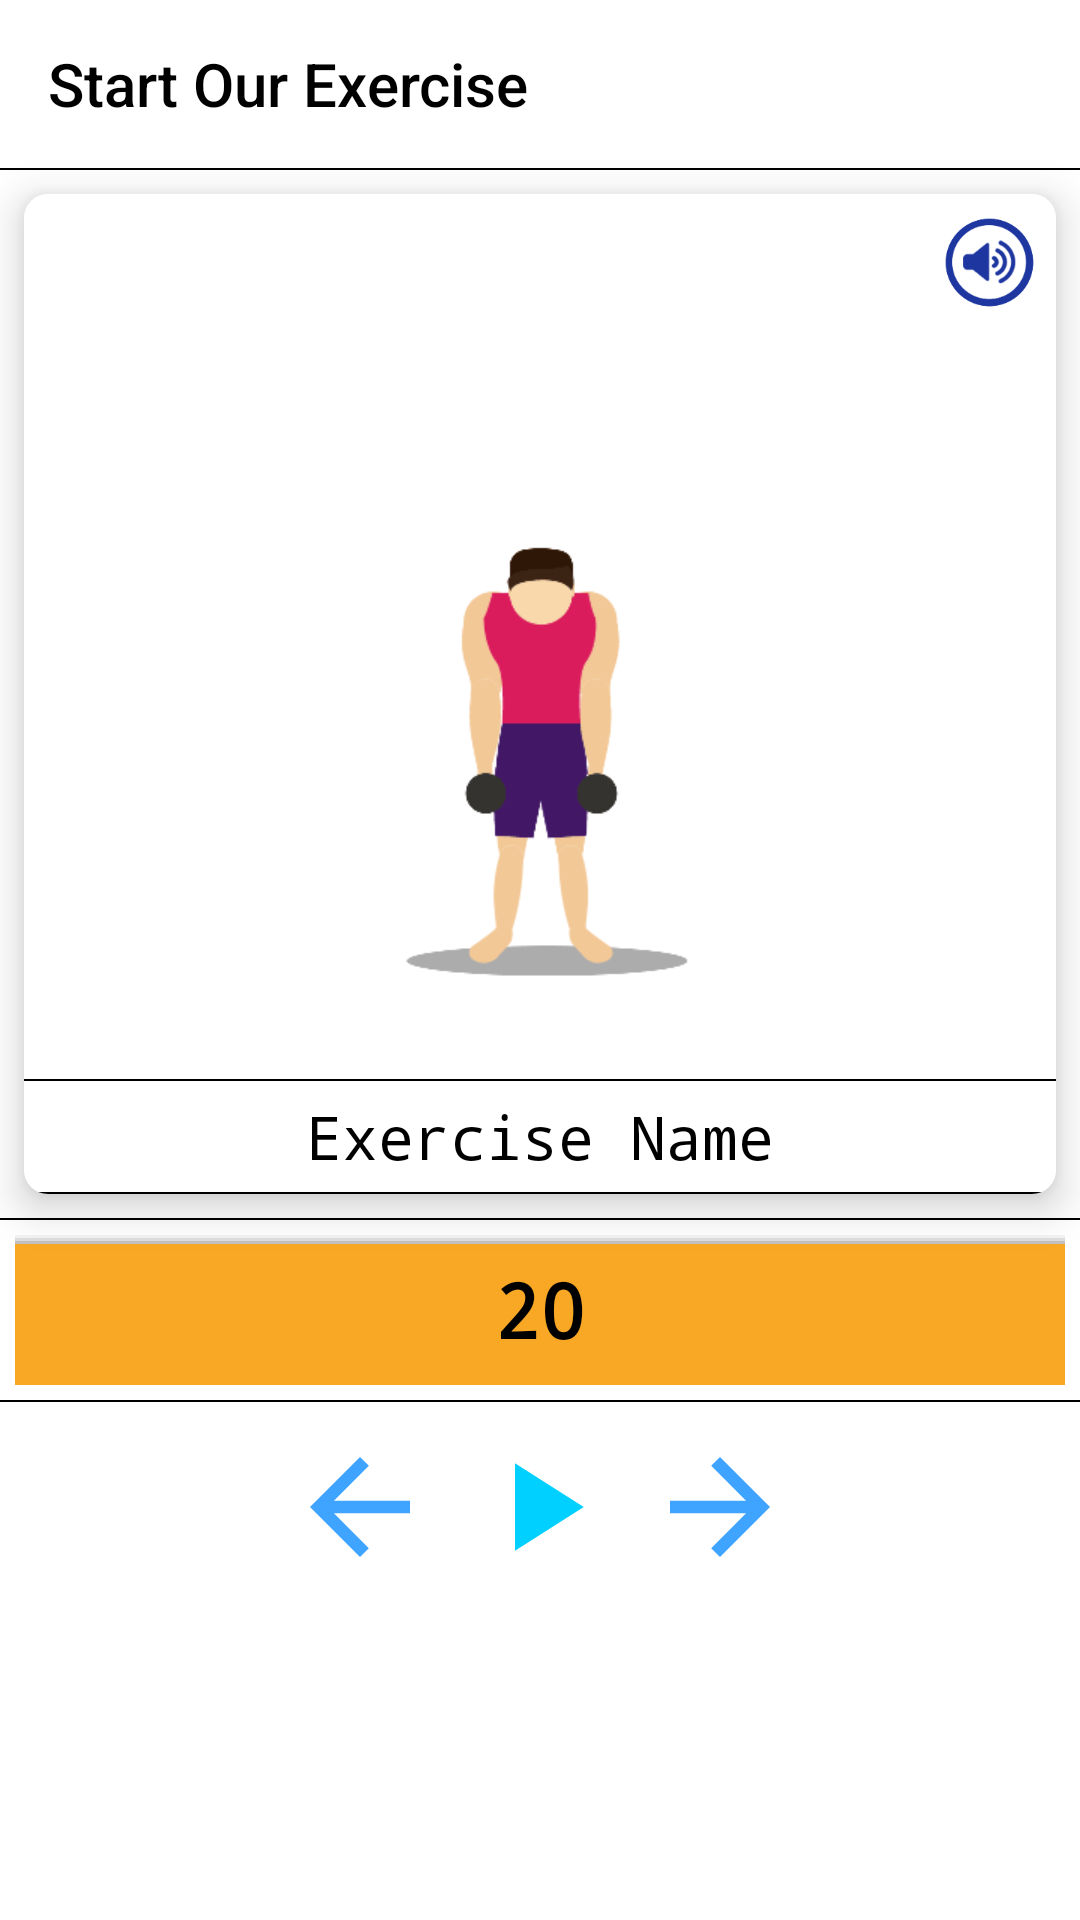

Locate icon controls on the screen. Image size 1080w x 1920h, boxes as (x1, y1, x2, y2).
back: (310, 1457, 410, 1557)
play: (515, 1463, 584, 1551)
right: (670, 1457, 770, 1557)
sound: (945, 218, 1034, 307)
